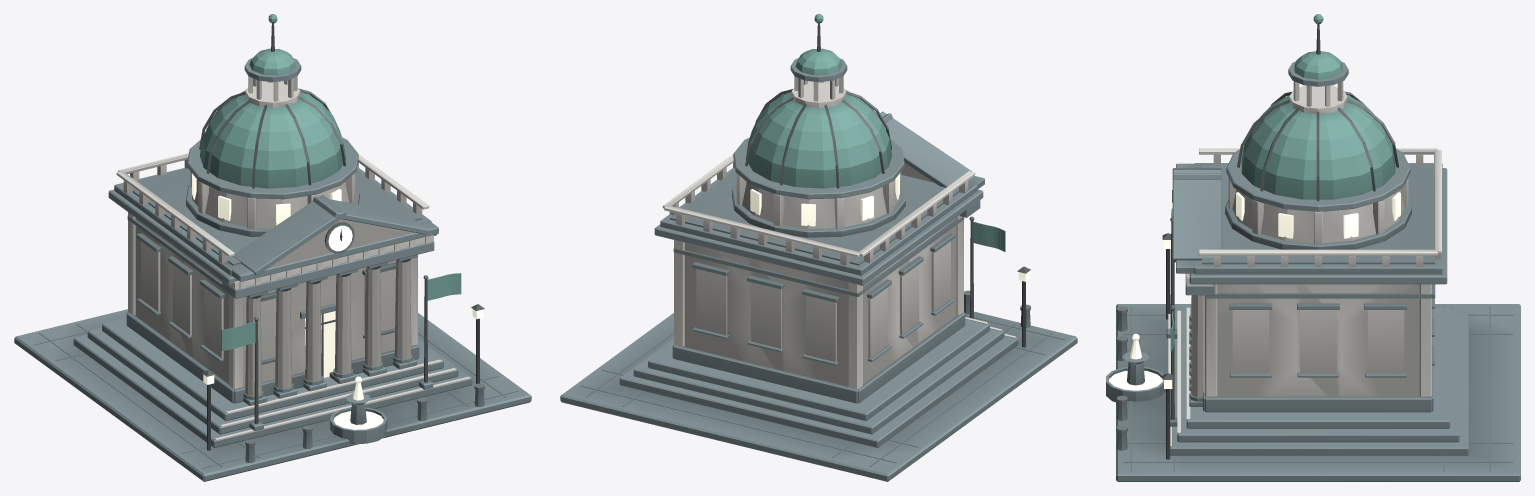
The model's file is town-hall.glb.
3 views of the same model, side by side, from view 1: azimuth 30°, elevation 25°; view 2: azimuth 150°, elevation 25°; view 3: azimuth 270°, elevation 25° (orthographic). The views are drawn at different scales.
Parts seen in each view (by area): view 1: TownHall, TownHall.Flag.1, TownHall.Flag.0; view 2: TownHall, TownHall.Flag.0; view 3: TownHall.
Part boxes in pixels (<box>): TownHall: <box>14,14,531,481</box>; TownHall.Flag.1: <box>427,273,461,300</box>; TownHall.Flag.0: <box>221,321,255,350</box>; TownHall: <box>560,14,1077,481</box>; TownHall.Flag.0: <box>973,221,1005,251</box>; TownHall: <box>1106,14,1520,481</box>.
Bounding box in the file's own units: 13.2 × 13.77 × 13.52.
